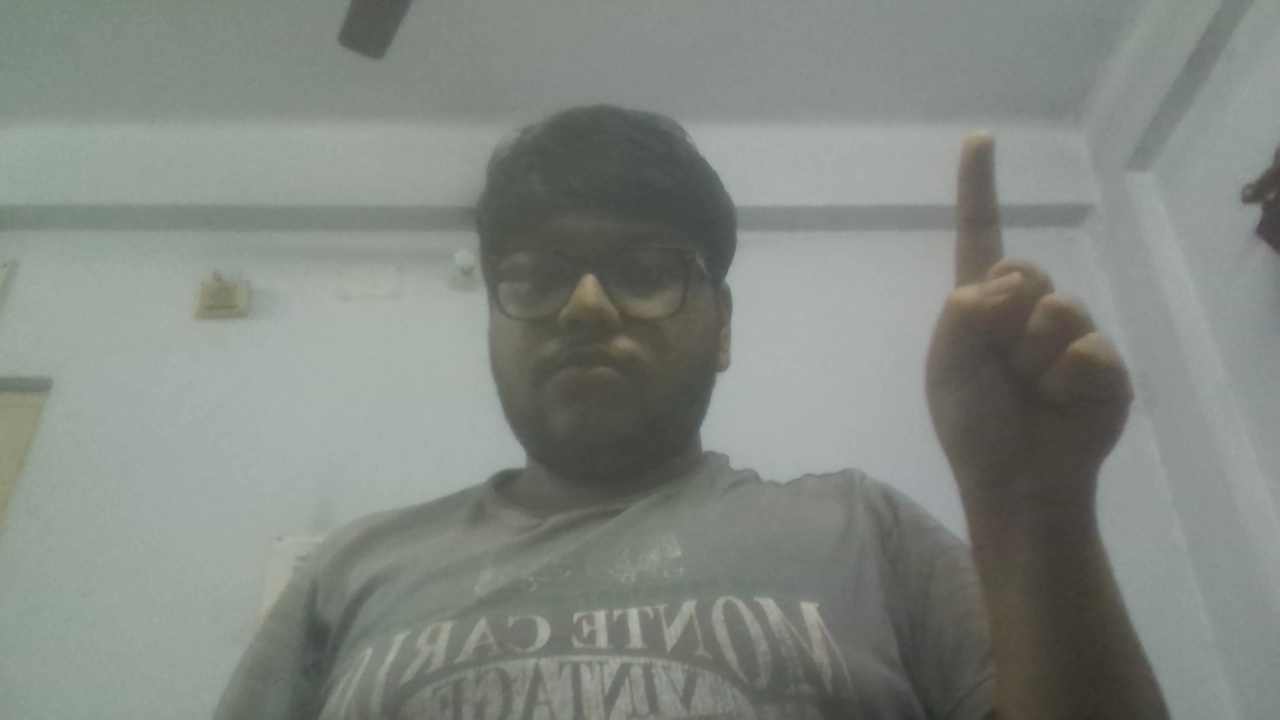Gesture1: (915, 123, 1146, 527)
